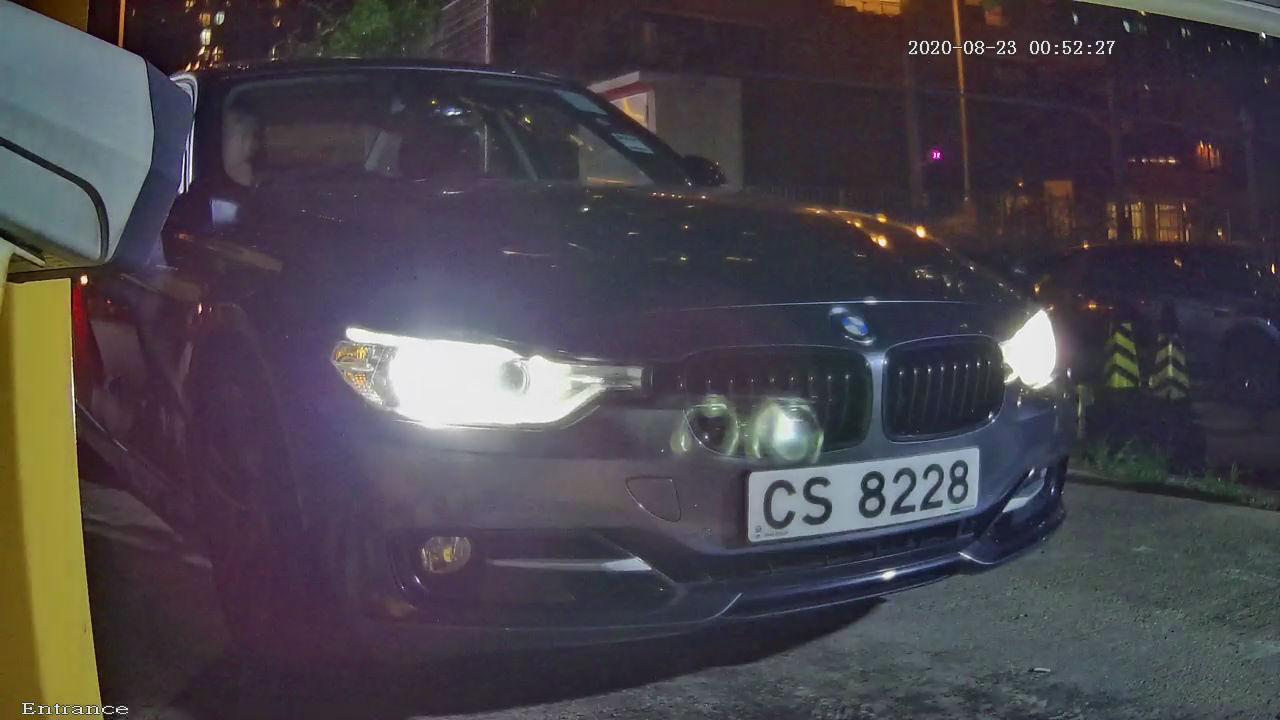Car: (63, 23, 1166, 698)
License Plate: (732, 428, 989, 544)
